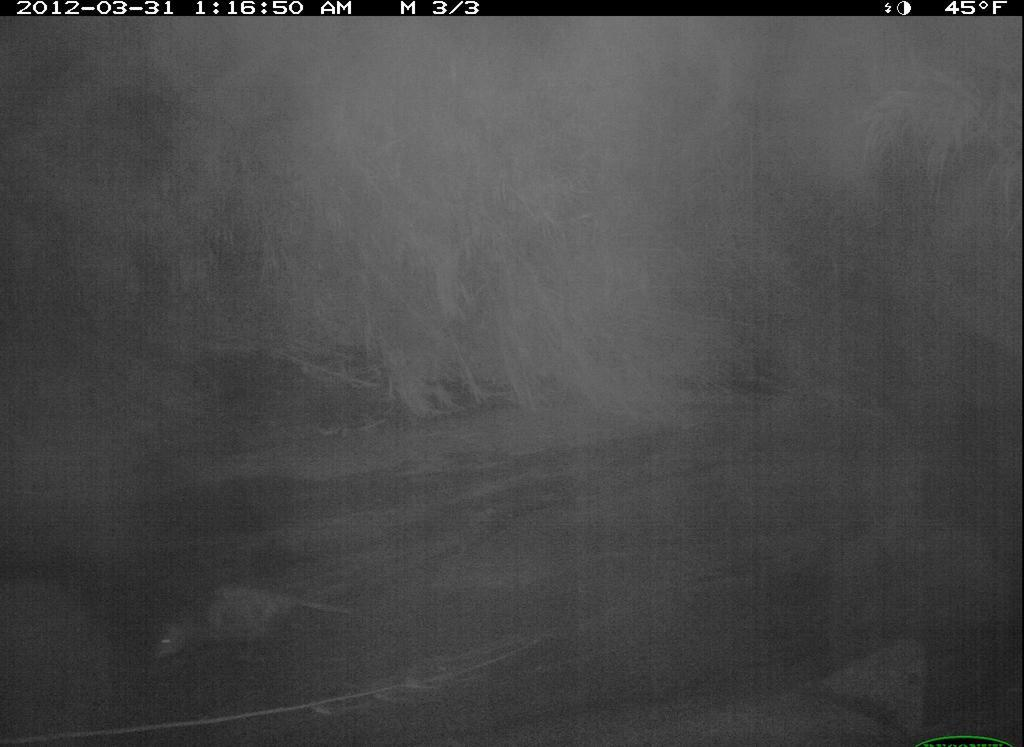opossum: (135, 580, 358, 689)
